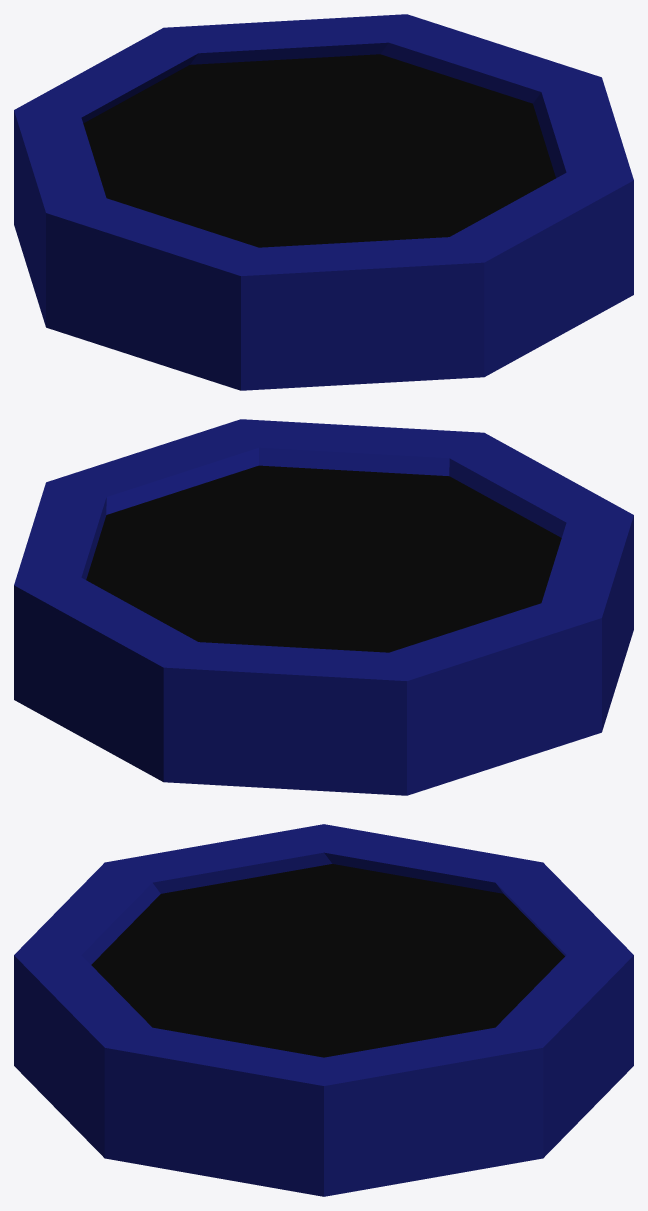
File: pist2 .fbx
3 views of the same model, one above another, from view 1: azimuth 30°, elevation 25°; view 2: azimuth 150°, elevation 25°; view 3: azimuth 270°, elevation 25° (orthographic). The views are drawn at different scales.
Parts seen in each view (by area): view 1: Cylinder; view 2: Cylinder; view 3: Cylinder.
Boxes of the visible parts, box(x1,y1,x2,y2) form: Cylinder: box(14, 14, 633, 390); Cylinder: box(14, 419, 633, 795); Cylinder: box(14, 824, 633, 1196).
Bounding box in the file's own units: 400 × 78.82 × 400.
